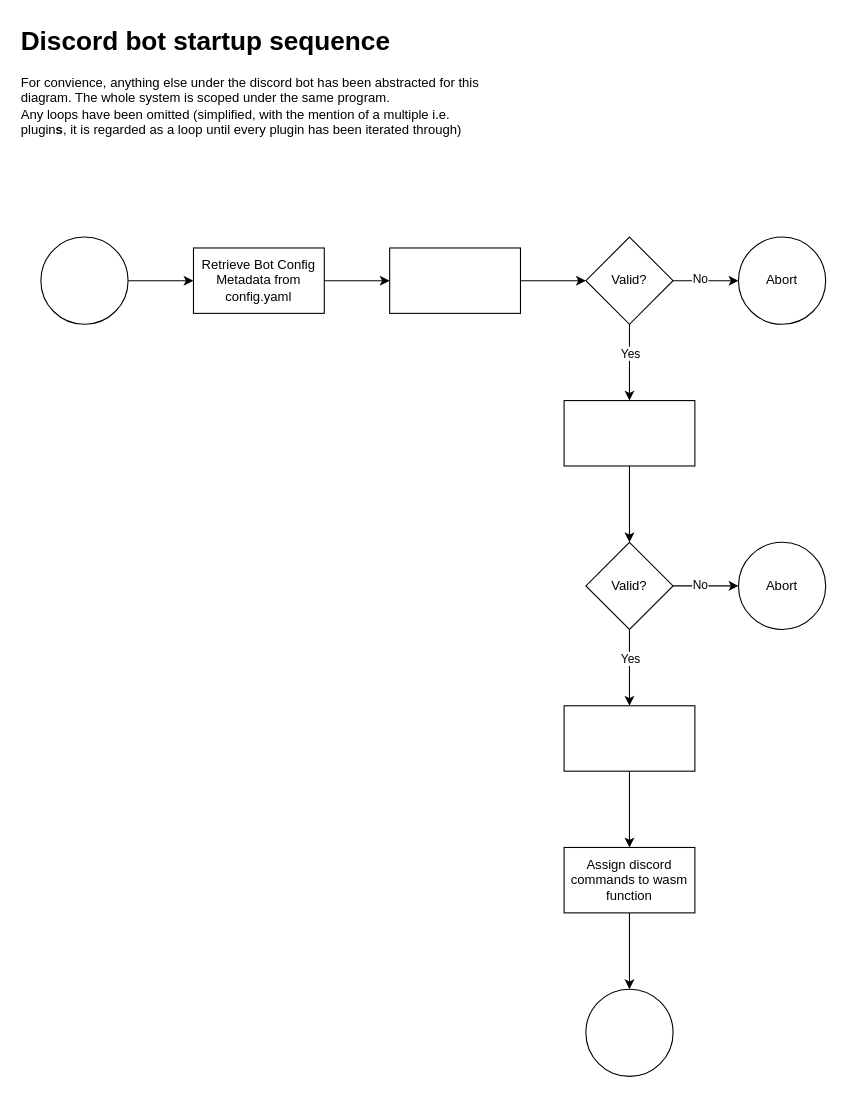
The diagram is 845 pixels wide and 1095 high, and some of its shapes have lost their labels. Each missing label, with the centre of its shape:
"Parse Config Metadata" belongs at point 454,280.
"Parse plugins metadata" belongs at point 629,738.
"Retrieve Pugins metadata from plugins/<plugin folder>/plugin.yaml" belongs at point 629,432.
